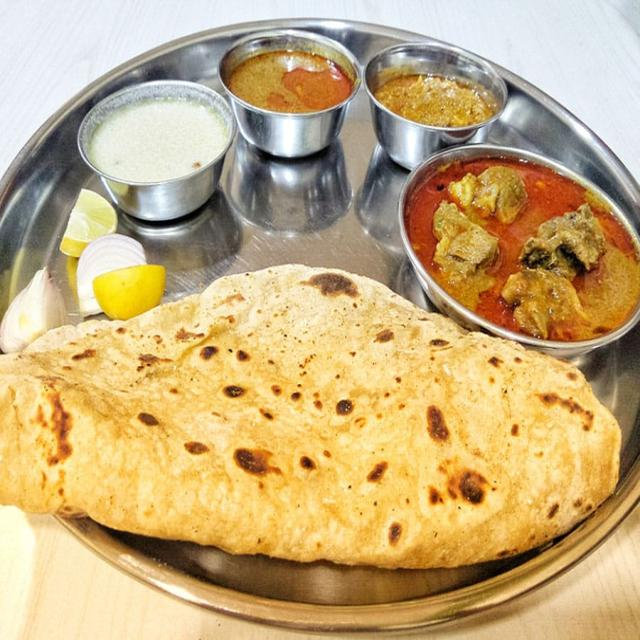non veg meals: (3, 14, 640, 596)
